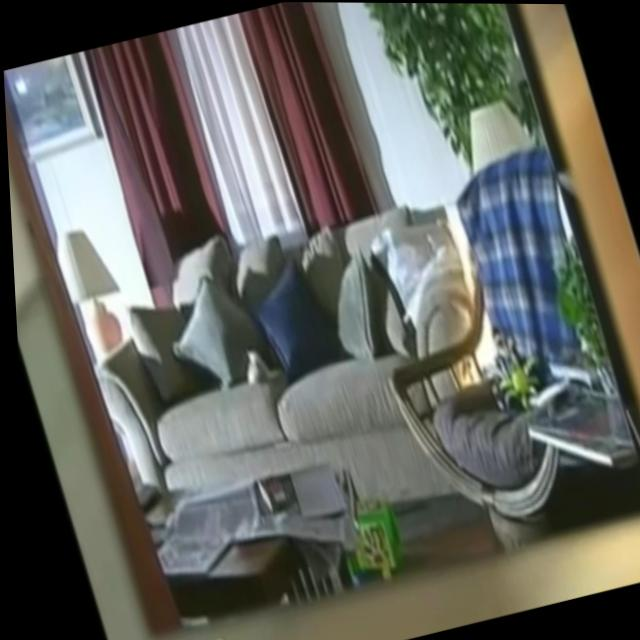fire: (407, 205, 508, 390)
